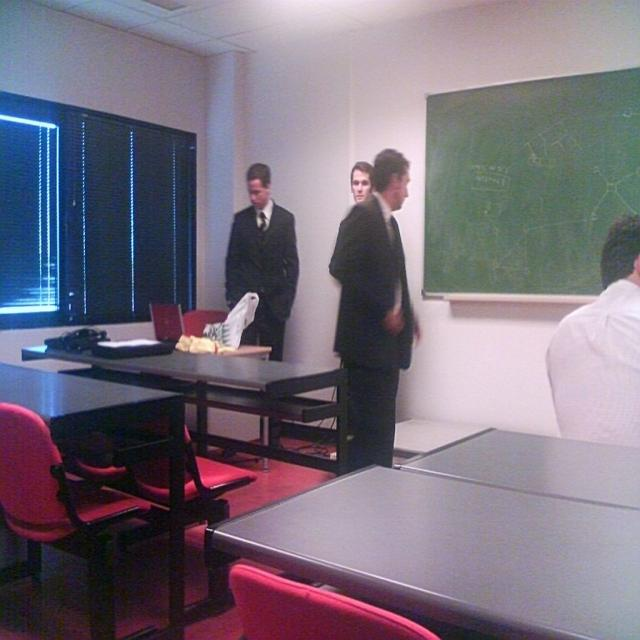chair: (0, 402, 164, 638), (226, 560, 442, 640)
desk: (211, 465, 640, 632)
person: (328, 151, 420, 473), (545, 214, 640, 444), (224, 165, 300, 360)
